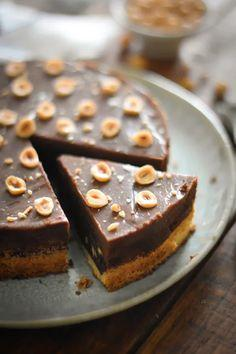Tart: (0, 55, 214, 305)
